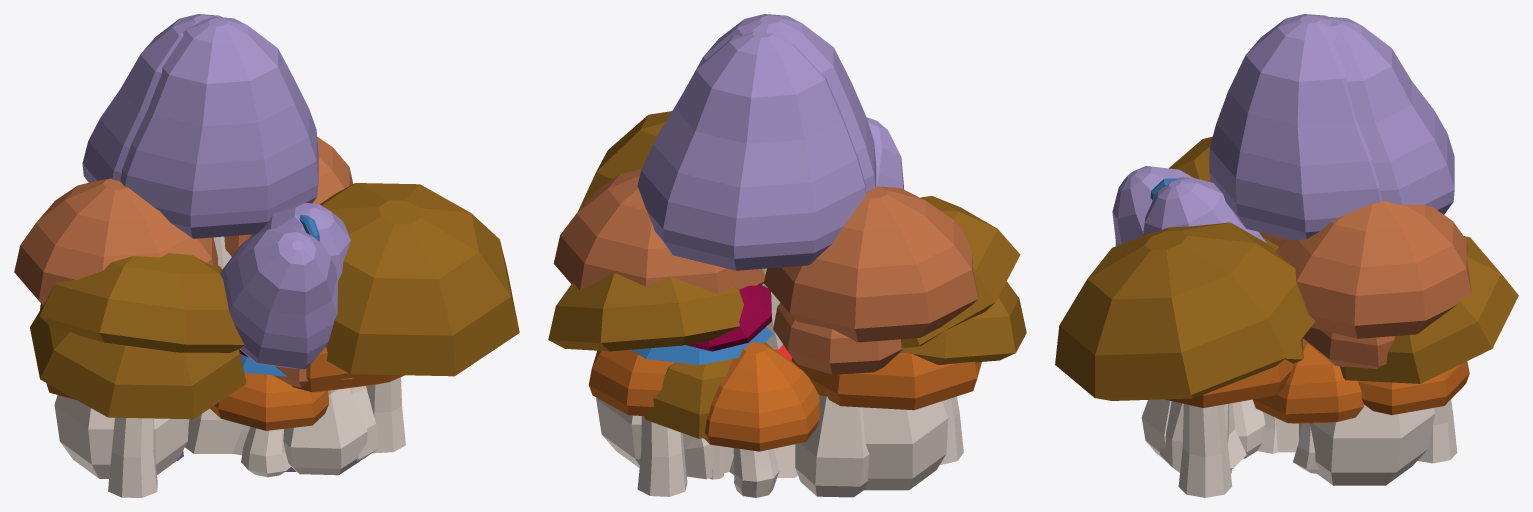
Rendered from Mushrooms 1.fbx.
3 renders of one model, left to right at view 1: azimuth 30°, elevation 25°; view 2: azimuth 150°, elevation 25°; view 3: azimuth 270°, elevation 25°, orthographic. The views are drawn at different scales.
Visible parts, largest first — view 1: Chêne-ombré, Onirique, Fongi-Oberla, Chêne-ombré_2, Onirique_2, Fongi-Oberla_2, Embercloche_2, Embercloche; view 2: Onirique_2, Fongi-Oberla, Fongi-Oberla_2, Chêne-ombré_2, Chêne-ombré, Embercloche_2, Embercloche, Onirique, Sangrelune, Rêvedoré; view 3: Chêne-ombré, Onirique, Fongi-Oberla_2, Onirique_2, Chêne-ombré_2, Embercloche, Embercloche_2, Fongi-Oberla.
Boxes of the visible parts, box(x1,y1,x2,y2) form: Chêne-ombré: box(39, 183, 519, 497); Onirique: box(120, 17, 337, 453); Fongi-Oberla: box(14, 178, 217, 478); Chêne-ombré_2: box(30, 311, 246, 419); Onirique_2: box(82, 14, 350, 455); Fongi-Oberla_2: box(224, 137, 367, 475); Embercloche_2: box(210, 372, 329, 477); Embercloche: box(46, 347, 404, 460); Onirique_2: box(637, 31, 865, 477); Fongi-Oberla: box(685, 186, 977, 490); Fongi-Oberla_2: box(553, 169, 903, 497); Chêne-ombré_2: box(548, 273, 1026, 496); Chêne-ombré: box(578, 111, 1020, 479); Embercloche_2: box(703, 342, 819, 497); Embercloche: box(588, 349, 981, 416); Onirique: box(657, 14, 903, 192); Sangrelune: box(686, 285, 771, 351); Rêvedoré: box(631, 327, 773, 365); Chêne-ombré: box(1055, 136, 1315, 497); Onirique: box(1112, 14, 1382, 452); Fongi-Oberla_2: box(1141, 201, 1471, 485); Onirique_2: box(1143, 17, 1454, 453); Chêne-ombré_2: box(1223, 236, 1518, 473); Embercloche: box(1160, 359, 1469, 472); Embercloche_2: box(1253, 339, 1364, 473); Fongi-Oberla: box(1233, 232, 1394, 458).
Size of the model in its own units: 0.5645 by 0.5159 by 0.5087.
